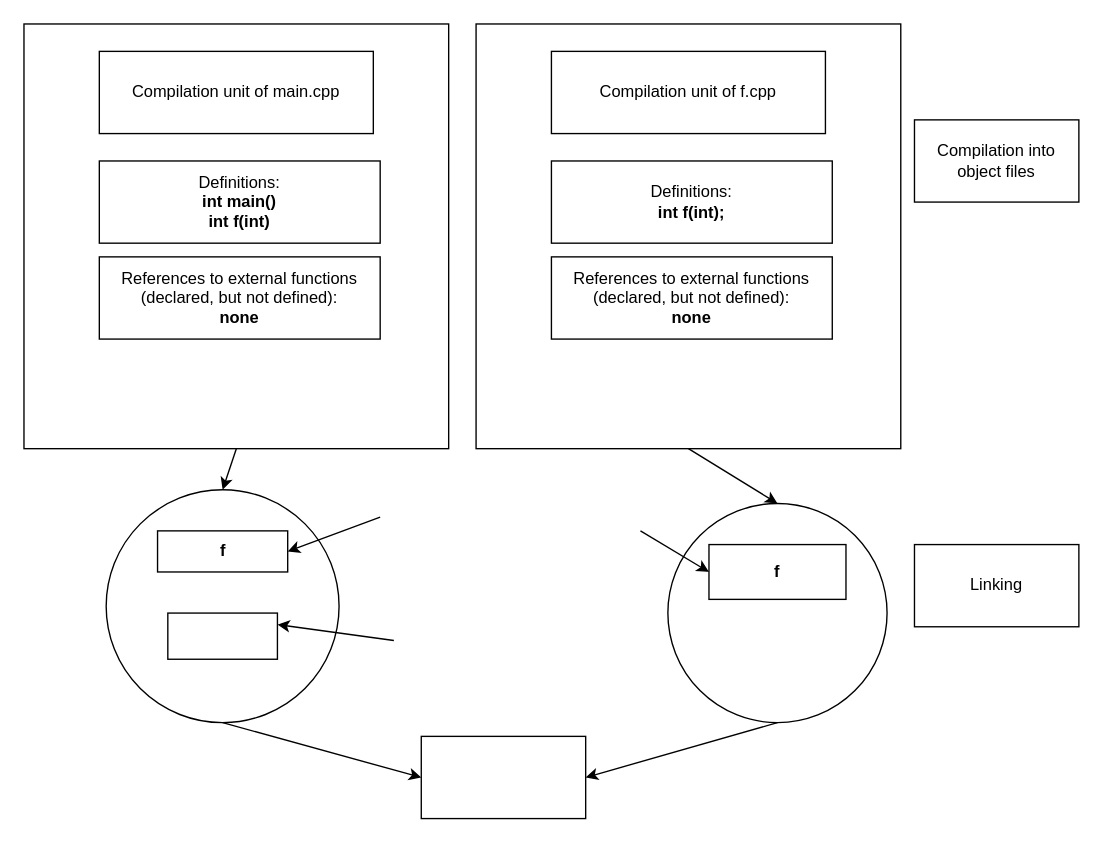
Image size: 1103x843. Some labels were removed from this diagram. The shapes that lost their labels are listed below. From the top down, each one's centre as x and y in pixels, then its label:
At point 221,635: "main".
At point 503,777: "Which f do you actually want, bro? Left or right?".
